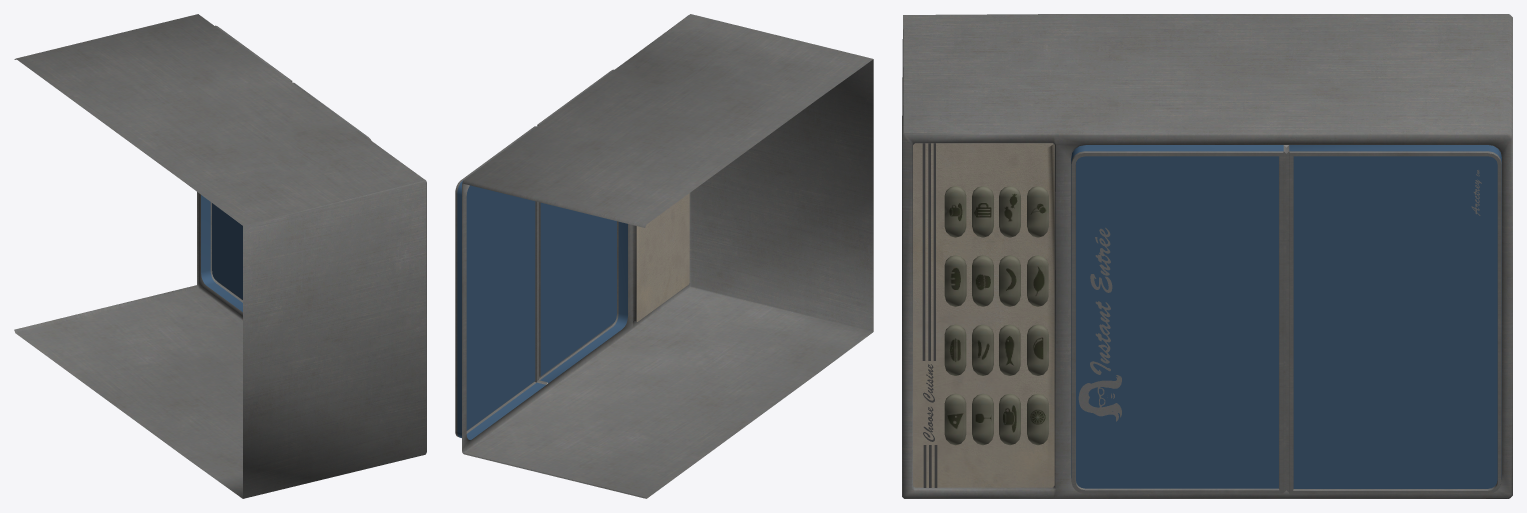
Rendered from nt_2020_food_dispenser_blue_LOD0.obj.
3 views of the same model, side by side, from view 1: azimuth 30°, elevation 25°; view 2: azimuth 150°, elevation 25°; view 3: azimuth 270°, elevation 25° (orthographic). The views are drawn at different scales.
Parts seen in each view (by area): view 1: metal_stainless_steel_editor, nt_2020_plastic_blue; view 2: metal_stainless_steel_editor, nt_2020_plastic_blue, pent_art_wall_creampaint02; view 3: nt_2020_plastic_blue, metal_stainless_steel_editor, pent_art_wall_creampaint02, mtl_nt_2020_food_dispenser, mtl_nt_2020_food_disp_decals.
Part boxes in pixels (bbox=[...]): metal_stainless_steel_editor: bbox=[14, 14, 426, 498]; nt_2020_plastic_blue: bbox=[201, 195, 242, 311]; metal_stainless_steel_editor: bbox=[455, 14, 873, 498]; nt_2020_plastic_blue: bbox=[457, 180, 627, 439]; pent_art_wall_creampaint02: bbox=[636, 193, 689, 321]; nt_2020_plastic_blue: bbox=[1071, 145, 1501, 488]; metal_stainless_steel_editor: bbox=[902, 14, 1512, 498]; pent_art_wall_creampaint02: bbox=[913, 143, 1054, 487]; mtl_nt_2020_food_dispenser: bbox=[944, 186, 1048, 445]; mtl_nt_2020_food_disp_decals: bbox=[922, 143, 1481, 487].
Size of the model in its own units: 69.69 by 94.03 by 142.
